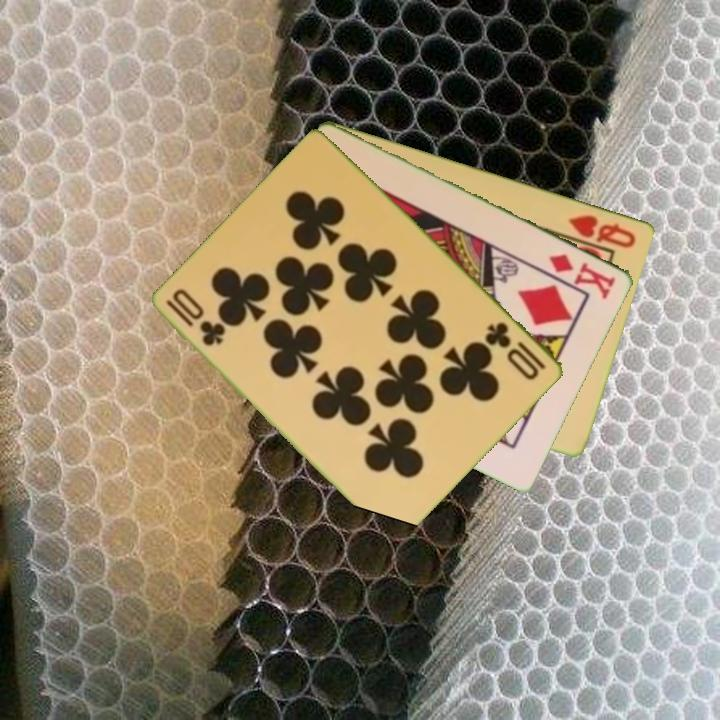10c: (482, 318, 550, 384), (163, 295, 229, 349)
Kd: (545, 250, 619, 300)
Qh: (565, 211, 640, 251)
